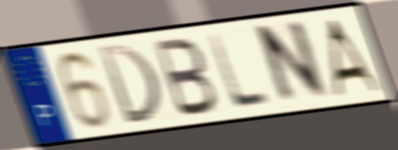6: (56, 48, 114, 132)
A: (327, 15, 384, 98)
B: (152, 36, 220, 120)
D: (95, 42, 164, 127)
L: (205, 32, 273, 111)
N: (256, 17, 331, 110)
